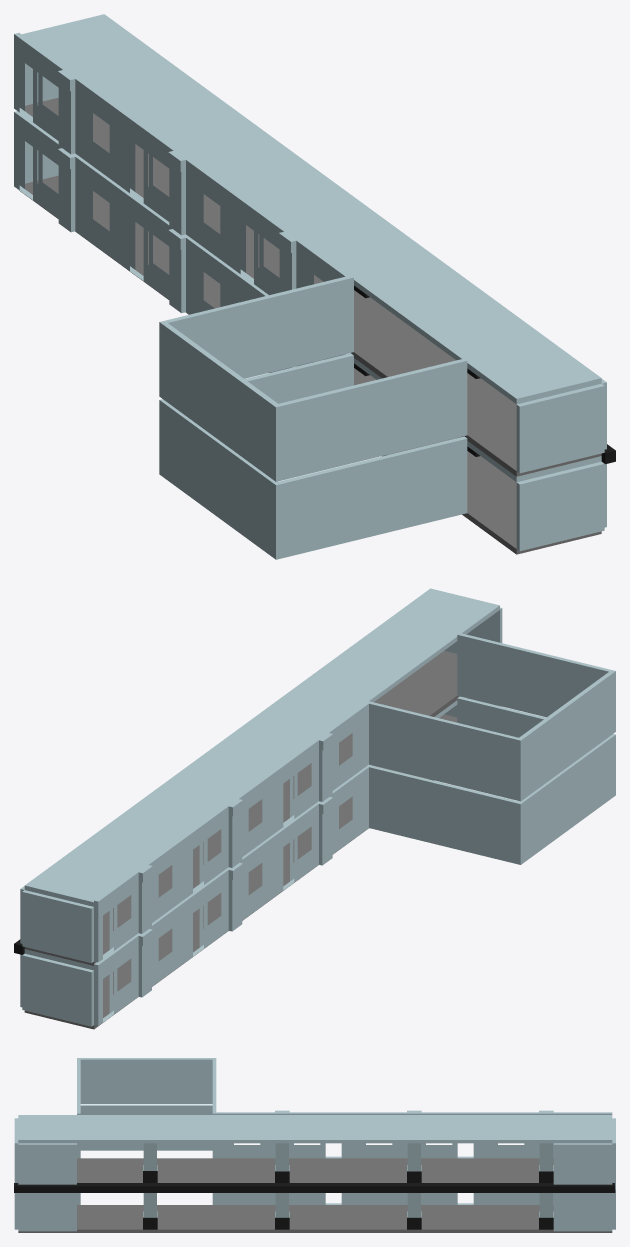
File: corridor_2d.fbx
The picture shows the model from 3 angles, top to bottom: view 1: azimuth 30°, elevation 25°; view 2: azimuth 150°, elevation 25°; view 3: azimuth 270°, elevation 25°; orthographic projection. The views are drawn at different scales.
Parts seen in each view (by area): view 1: inanimate.001, inanimate; view 2: inanimate.001, inanimate; view 3: inanimate.001, inanimate, Cube, Pillar_block.001, pillar_crack.001, pillar_good.002, pillar_good.003, Pillar_block, pillar_crack, pillar_good, pillar_good.001.
Boxes of the visible parts, x1,y1,x2,y2 form: inanimate.001: [14, 14, 606, 481]; inanimate: [14, 111, 606, 559]; inanimate.001: [20, 588, 615, 965]; inanimate: [20, 696, 615, 1029]; inanimate.001: [14, 1058, 615, 1184]; inanimate: [14, 1104, 615, 1232]; Cube: [14, 1183, 615, 1192]; Pillar_block.001: [143, 1143, 157, 1182]; pillar_crack.001: [275, 1143, 289, 1182]; pillar_good.002: [407, 1143, 421, 1182]; pillar_good.003: [539, 1143, 553, 1182]; Pillar_block: [143, 1193, 157, 1229]; pillar_crack: [275, 1193, 289, 1229]; pillar_good: [407, 1193, 421, 1229]; pillar_good.001: [539, 1193, 553, 1229].
Bounding box in the file's own units: 1350 × 710 × 4105.
